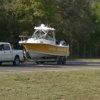Boat: (17, 20, 75, 67)
